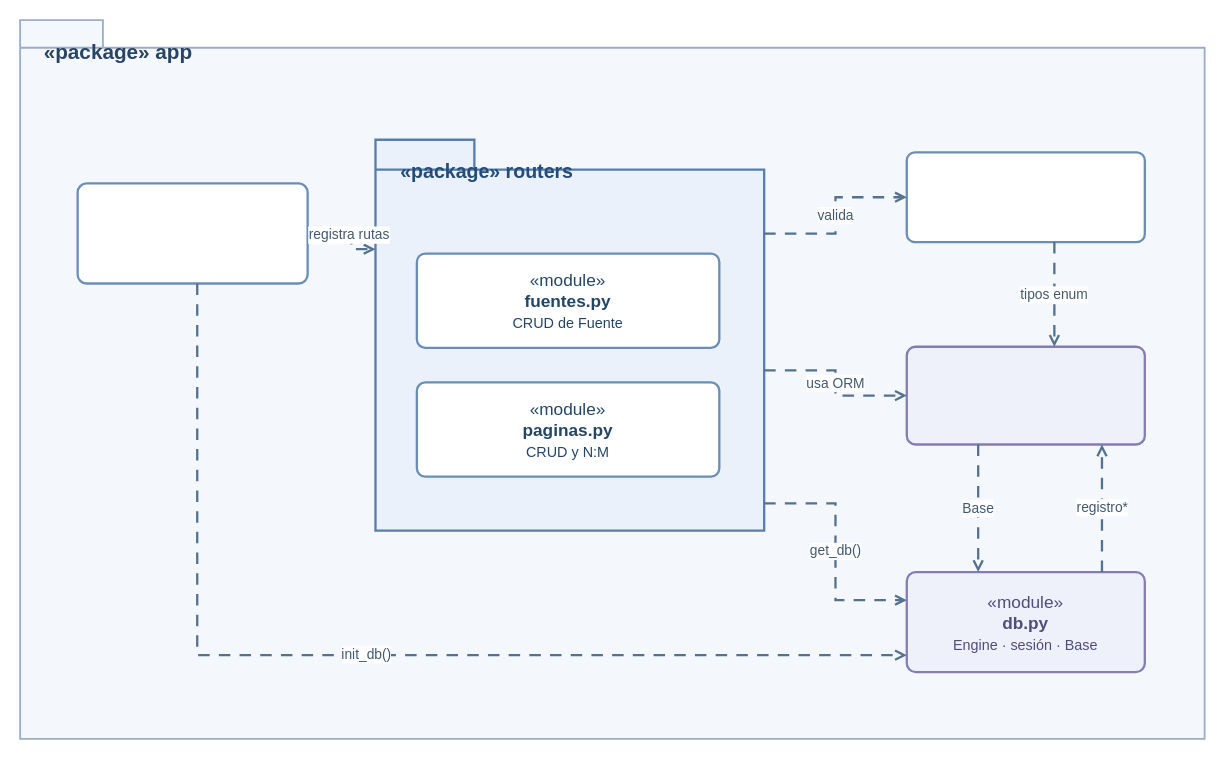
Image size: 1226x760. Some labels were removed from this diagram. The box of each missing label's shape, as (x1, y1, x2, y2) in pixels:
«module» main.py FastAPI · arranque y rutas: (76, 182, 308, 284)
«module» models.py Fuente, Pagina y N:M: (905, 345, 1145, 445)
«module» schemas.py Modelos Pydantic: (905, 151, 1145, 243)
